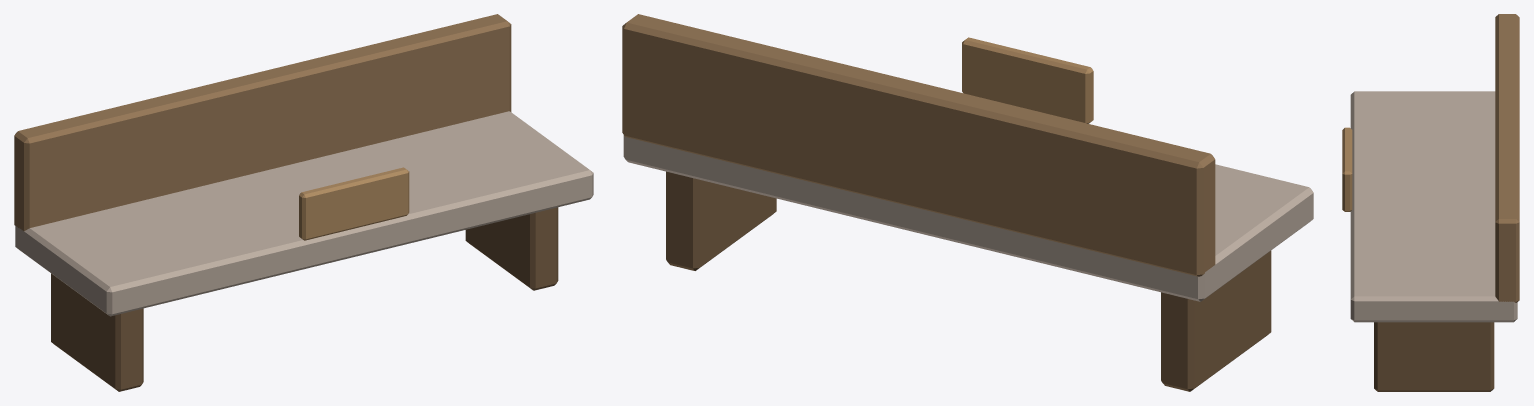
The model's file is town_chapel_pew.lod1.glb.
3 views of the same model, side by side, from view 1: azimuth 30°, elevation 25°; view 2: azimuth 150°, elevation 25°; view 3: azimuth 270°, elevation 25° (orthographic). The views are drawn at different scales.
Bounding box in the file's own units: 2.42 × 0.99 × 0.8711.
